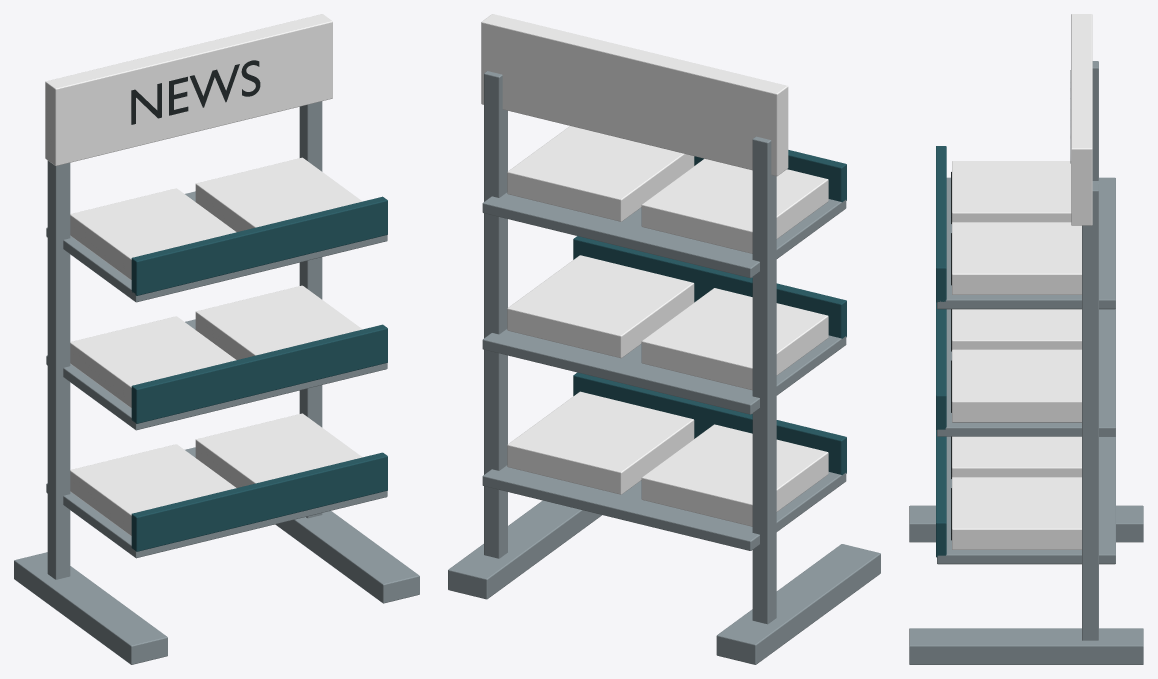
Rendered from local-newspaper-stand.glb.
3 renders of one model, left to right at view 1: azimuth 30°, elevation 25°; view 2: azimuth 150°, elevation 25°; view 3: azimuth 270°, elevation 25°, orthographic. The views are drawn at different scales.
Visible parts, largest first — view 1: Masthead, Front_Stop, Front_Stop.001, Front_Stop.002, Side_Post, Newspaper_Stack, Newspaper_Stack.002, Newspaper_Stack.004, Newspaper_Stack.001, Newspaper_Stack.003, Newspaper_Stack.005, Foot (+6 smaller); view 2: Masthead, Newspaper_Stack.003, Newspaper_Stack.001, Side_Post, Newspaper_Stack.005, Newspaper_Stack, Newspaper_Stack.002, Side_Post.001, Newspaper_Stack.004, Shelf.002, Shelf, Shelf.001 (+5 smaller); view 3: Newspaper_Stack.003, Newspaper_Stack.001, Newspaper_Stack.005, Foot.001, Newspaper_Stack.004, Side_Post.001, Newspaper_Stack, Newspaper_Stack.002, Shelf.002, Shelf, Shelf.001, Masthead (+5 smaller).
Part boxes in pixels (bbox=[...]): Masthead: bbox=[45, 14, 332, 165]; Front_Stop: bbox=[131, 452, 387, 551]; Front_Stop.001: bbox=[131, 324, 387, 423]; Front_Stop.002: bbox=[131, 196, 387, 295]; Side_Post: bbox=[47, 160, 70, 579]; Newspaper_Stack: bbox=[70, 444, 236, 535]; Newspaper_Stack.002: bbox=[70, 316, 236, 407]; Newspaper_Stack.004: bbox=[70, 188, 236, 280]; Newspaper_Stack.001: bbox=[195, 413, 362, 487]; Newspaper_Stack.003: bbox=[195, 285, 362, 359]; Newspaper_Stack.005: bbox=[195, 157, 362, 231]; Foot: bbox=[14, 552, 167, 664]; Masthead: bbox=[481, 14, 788, 176]; Newspaper_Stack.003: bbox=[507, 255, 694, 358]; Newspaper_Stack.001: bbox=[507, 391, 694, 494]; Side_Post: bbox=[752, 136, 776, 624]; Newspaper_Stack.005: bbox=[507, 126, 694, 221]; Newspaper_Stack: bbox=[641, 424, 828, 526]; Newspaper_Stack.002: bbox=[641, 288, 828, 390]; Side_Post.001: bbox=[484, 71, 507, 558]; Newspaper_Stack.004: bbox=[641, 158, 828, 253]; Shelf.002: bbox=[482, 192, 846, 278]; Shelf: bbox=[482, 465, 846, 550]; Shelf.001: bbox=[482, 329, 846, 414]; Newspaper_Stack.003: bbox=[952, 349, 1081, 422]; Newspaper_Stack.001: bbox=[952, 477, 1081, 549]; Newspaper_Stack.005: bbox=[952, 222, 1081, 294]; Foot.001: bbox=[909, 628, 1143, 664]; Newspaper_Stack.004: bbox=[952, 161, 1071, 222]; Side_Post.001: bbox=[1082, 183, 1098, 640]; Newspaper_Stack: bbox=[952, 436, 1081, 477]; Newspaper_Stack.002: bbox=[952, 309, 1081, 349]; Shelf.002: bbox=[937, 177, 1115, 309]; Shelf: bbox=[937, 436, 1115, 564]; Shelf.001: bbox=[937, 309, 1115, 436]; Masthead: bbox=[1071, 14, 1092, 225].
Bounding box in the file's own units: 0.78 × 1.33 × 0.55.
